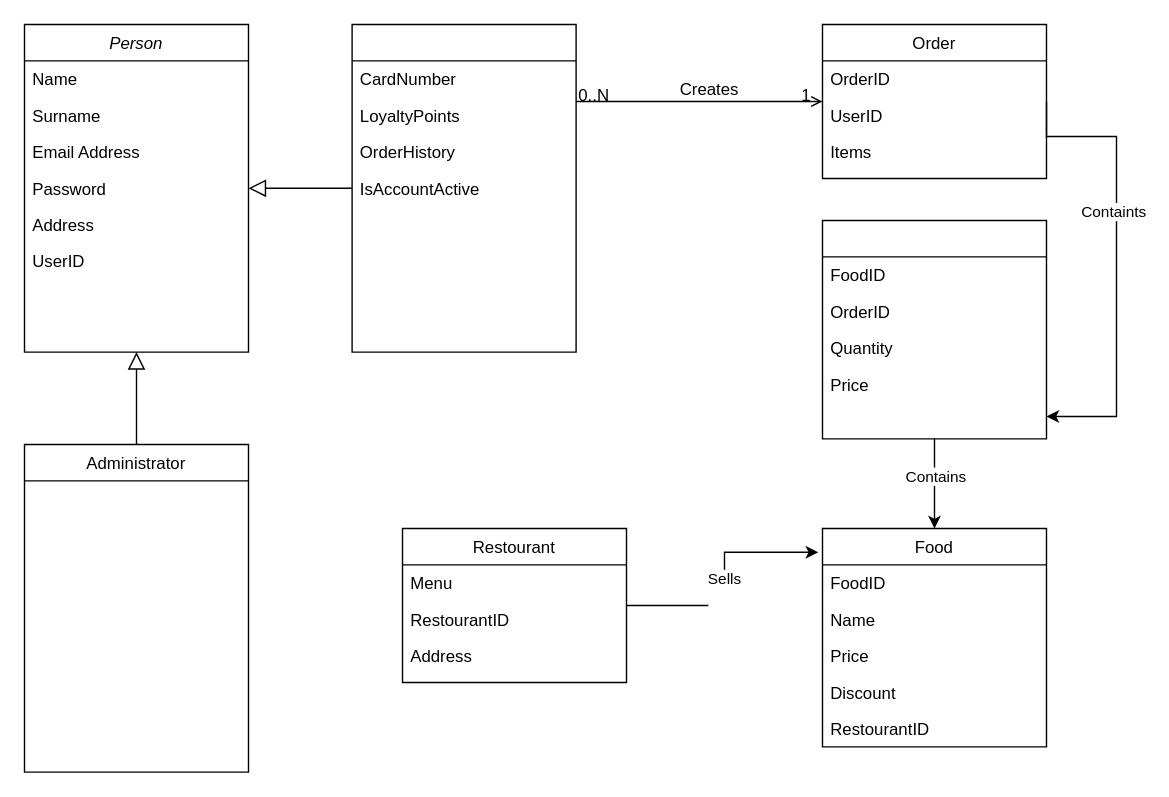
The diagram is 1169 pixels wide and 797 high, and some of its shapes have lost their labels. Each missing label, with the box of its shape:
Item: (821, 219, 1046, 439)
User: (351, 23, 576, 352)
